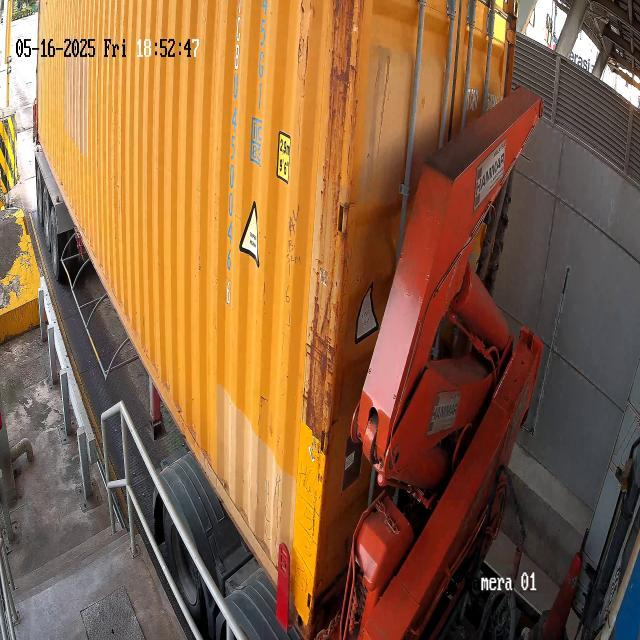ISO: (252, 0, 276, 110)
container_number: (222, 0, 245, 317)
